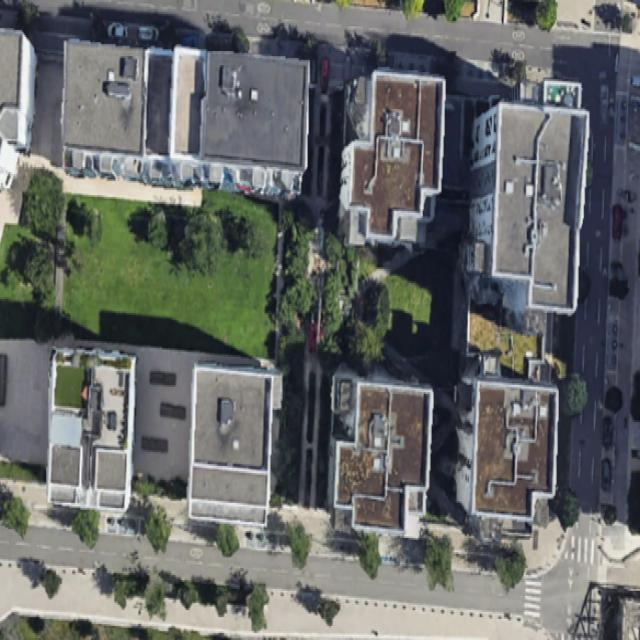immeuble: (54, 41, 313, 197), (459, 100, 588, 311), (337, 67, 445, 246), (326, 378, 432, 533), (44, 348, 134, 513), (453, 382, 556, 523), (188, 362, 275, 526)
